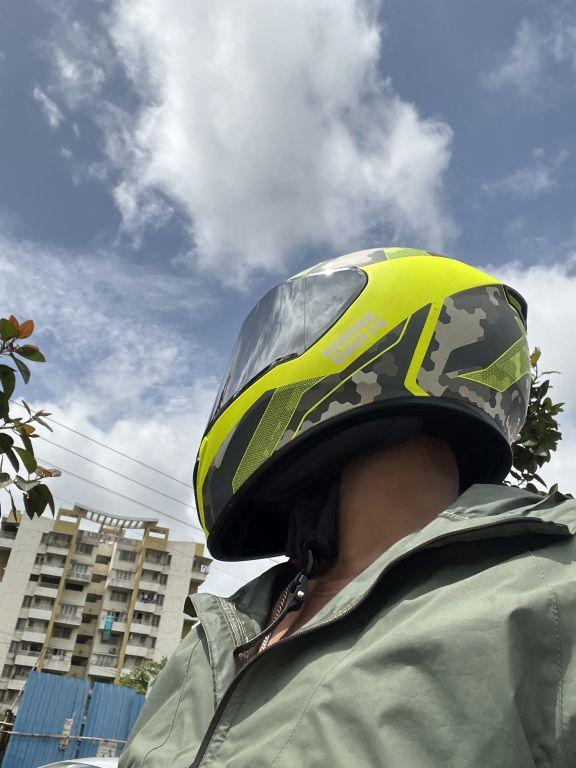helmet: (182, 217, 542, 569)
